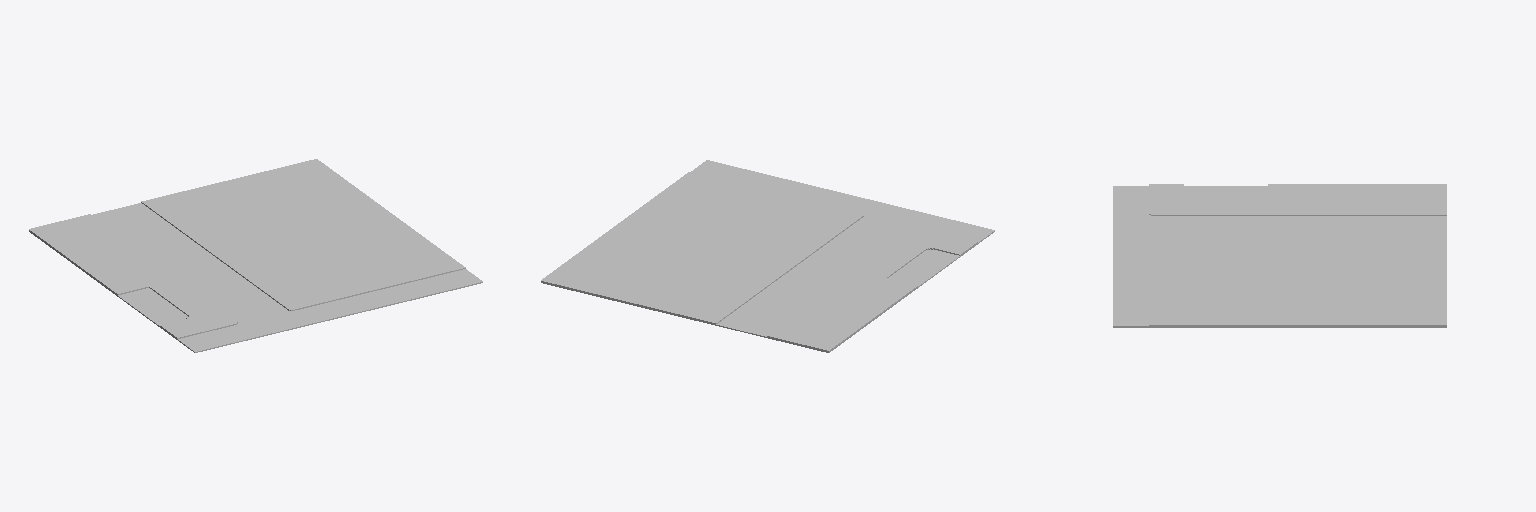
Rendered from Street2-0.obj.
The picture shows the model from 3 angles: view 1: azimuth 30°, elevation 25°; view 2: azimuth 150°, elevation 25°; view 3: azimuth 270°, elevation 25°; orthographic projection.
Parts seen in each view (by area): view 1: object 1; view 2: object 1; view 3: object 1.
Boxes of the visible parts, <box> form: object 1: <box>29,159,482,352</box>; object 1: <box>541,160,994,352</box>; object 1: <box>1113,184,1446,327</box>.
Size of the model in its own units: 25.6 by 0.2 by 25.6.